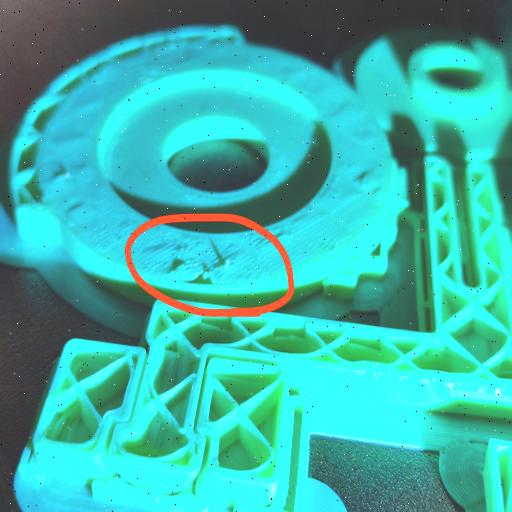blobs: (352, 164, 372, 190), (68, 196, 88, 216), (172, 254, 189, 274), (54, 168, 72, 186), (220, 256, 232, 272)
